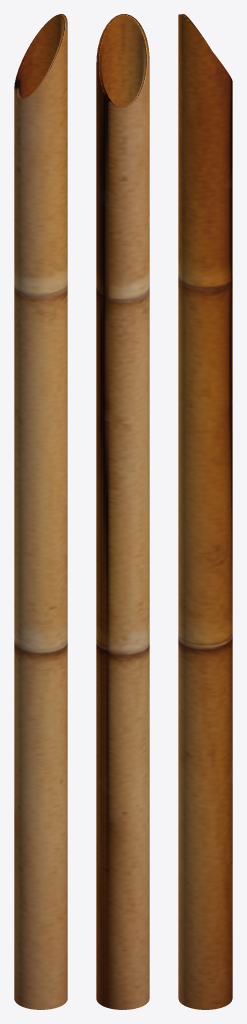
File: bambu_runcing1.fbx
3 views of the same model, side by side, from view 1: azimuth 90°, elevation 25°; view 2: azimuth 150°, elevation 25°; view 3: azimuth 270°, elevation 25° (orthographic).
Parts seen in each view (by area): view 1: Cylinder; view 2: Cylinder; view 3: Cylinder.
Boxes of the visible parts, bbox=[...] form: Cylinder: bbox=[14, 14, 67, 1009]; Cylinder: bbox=[96, 14, 149, 1009]; Cylinder: bbox=[178, 14, 232, 1009].
Bounding box in the file's own units: 53.47 × 1078 × 53.47.
1 material, 1 textured.
